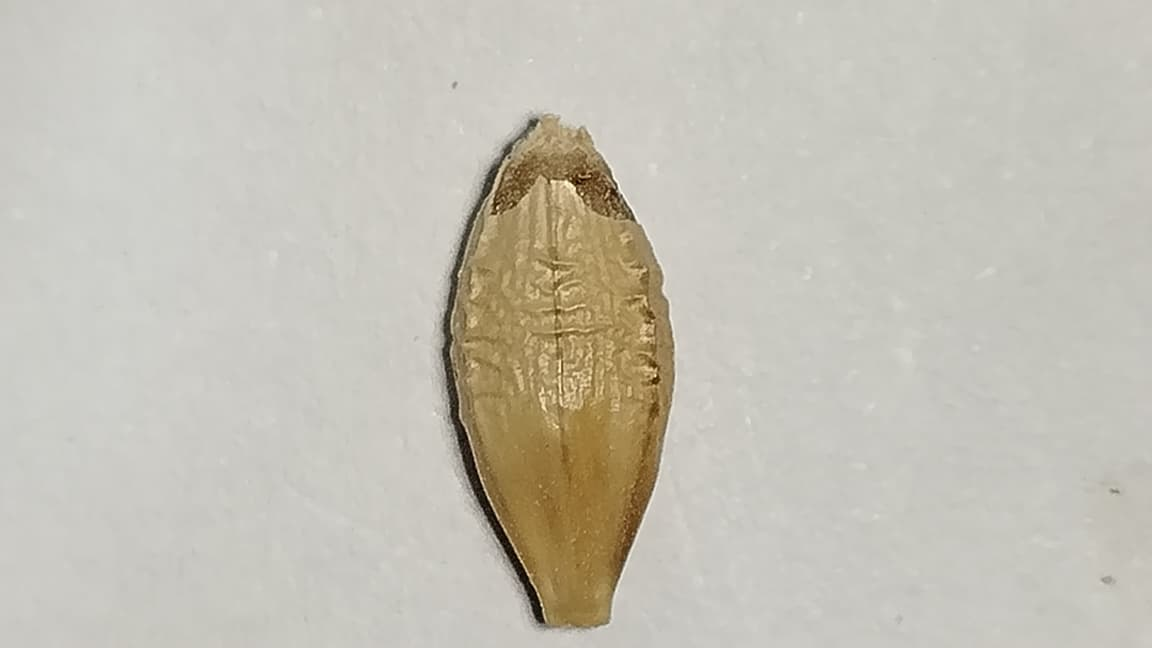healthy-70-60: (444, 115, 673, 627)
staindamage: (485, 127, 630, 219)
